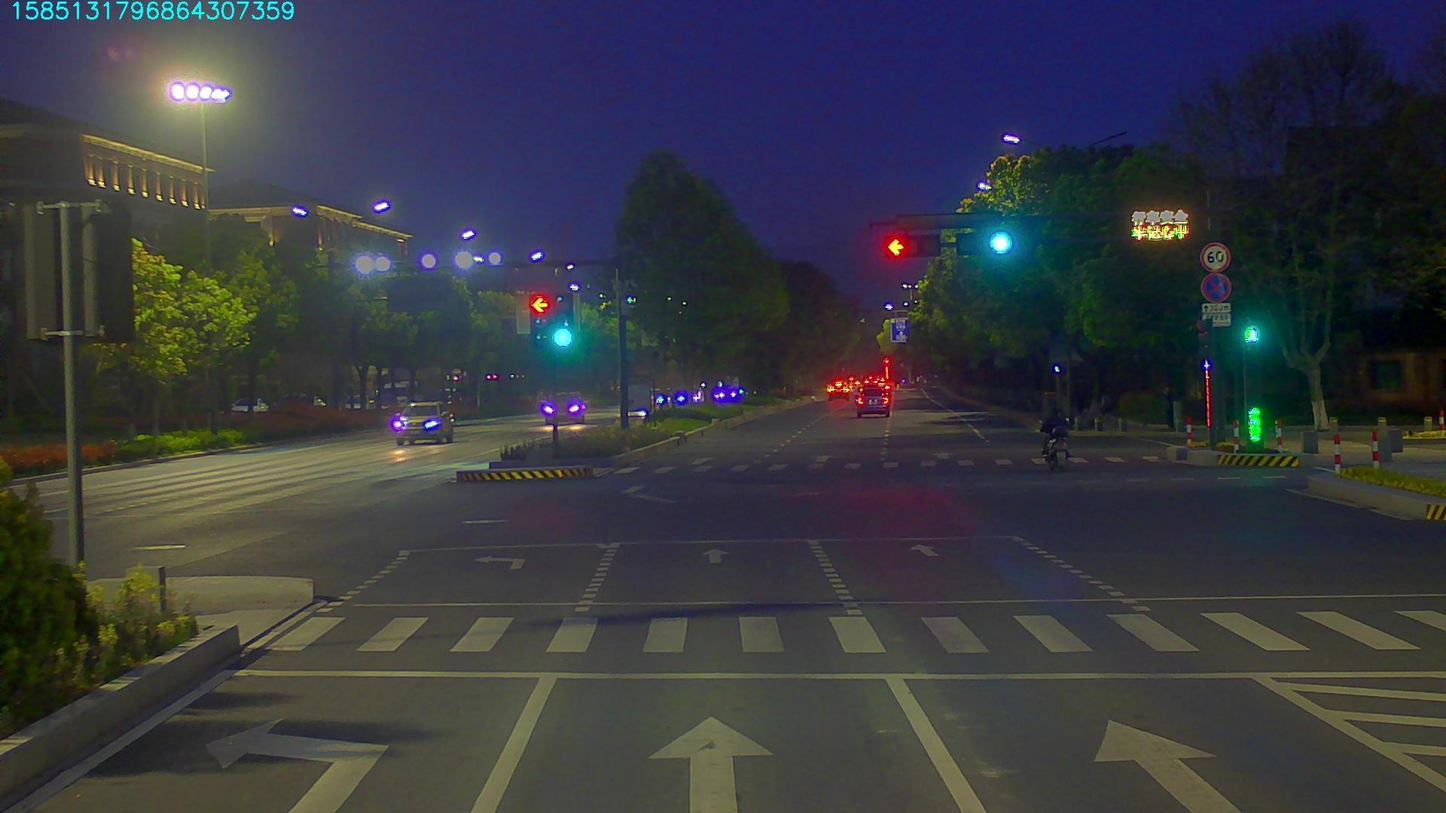green: (955, 231, 1010, 255)
red: (884, 235, 933, 254)
